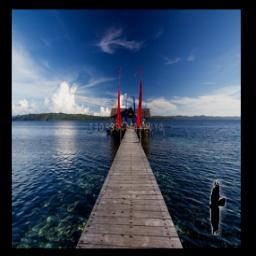Crow: (209, 179, 226, 235)
